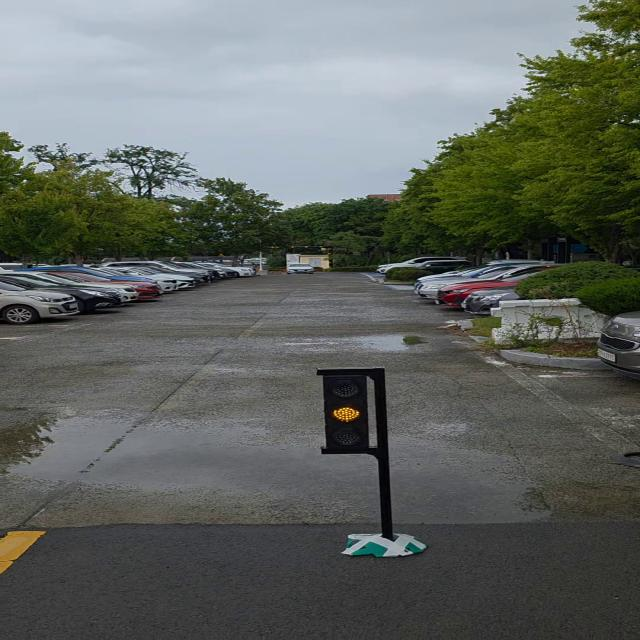yellow: (323, 368, 373, 457)
